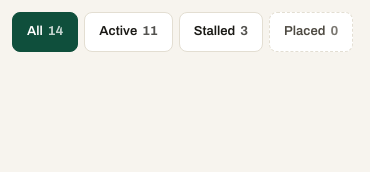
FilterChips › selects more than one value on a parameter that supports it
This screenshot has width=370, height=172.
Click the button "Active 11": (128, 32) [84,12,173,52]
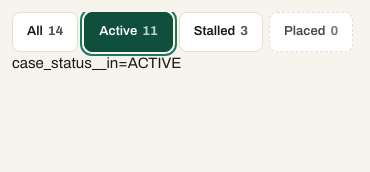
Click the button "Stalled 3": (221, 32) [179,12,263,52]
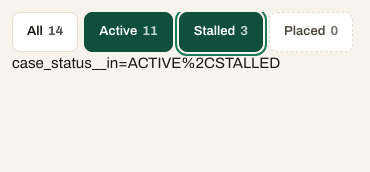
Now the text with test id "query" reads "case_status__in=ACTIVE%2CSTALLED", box [12,55,280,71]
